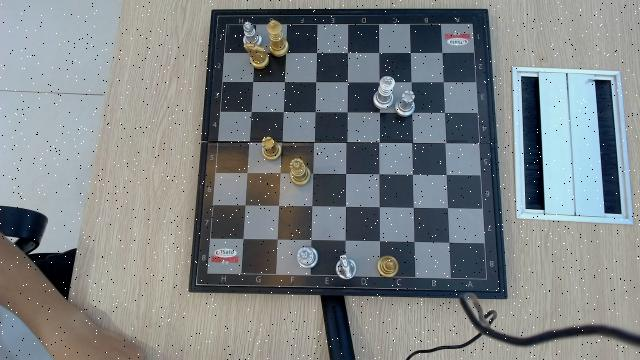black_bishop: (376, 256, 401, 277)
black_king: (266, 20, 289, 57)
black_knight: (244, 44, 269, 70), (260, 137, 283, 161)
black_queen: (289, 159, 311, 186)
white_king: (373, 75, 396, 109)
white_knight: (336, 256, 358, 279), (242, 22, 263, 44)
white_queen: (296, 246, 316, 267)
white_rook: (394, 90, 416, 117)
